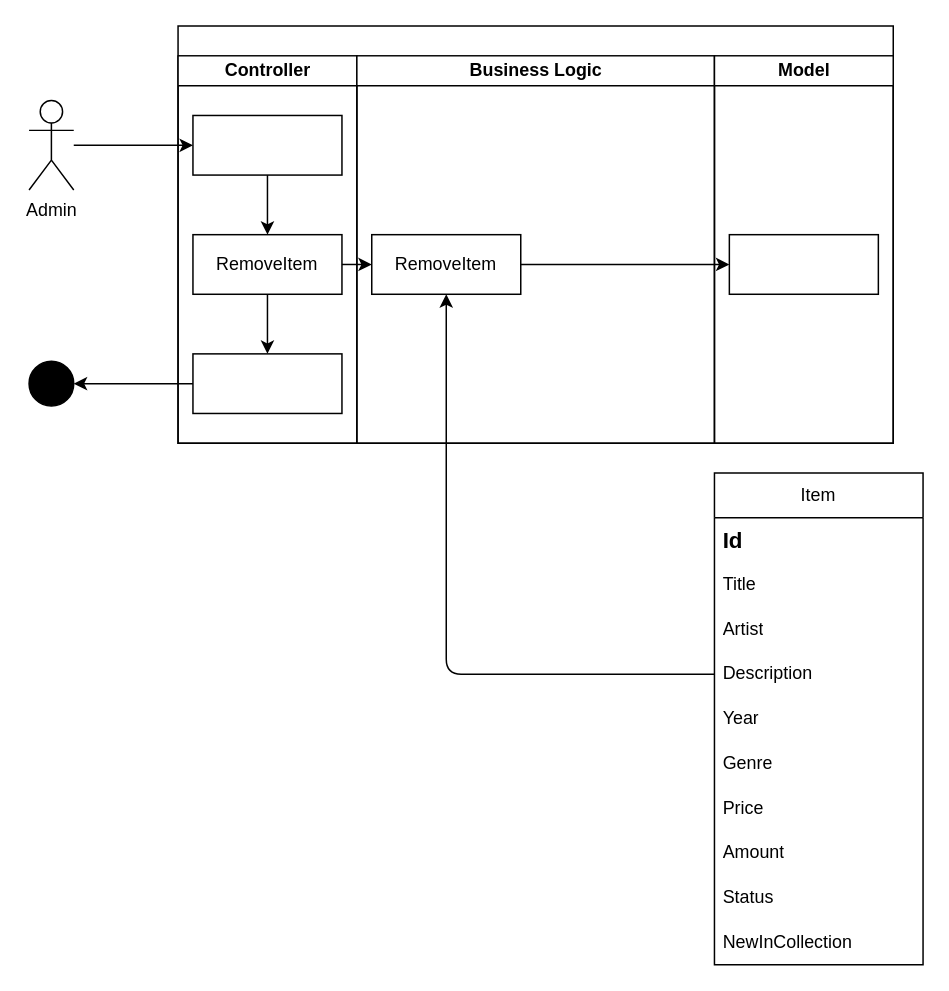
Image size: 949x991. Some labels were removed from this diagram. Each missing label, with the centre of its shape:
"DeleteItem" goes at point (803, 263).
"Initialize" goes at point (266, 144).
"ShowItems" goes at point (266, 382).
